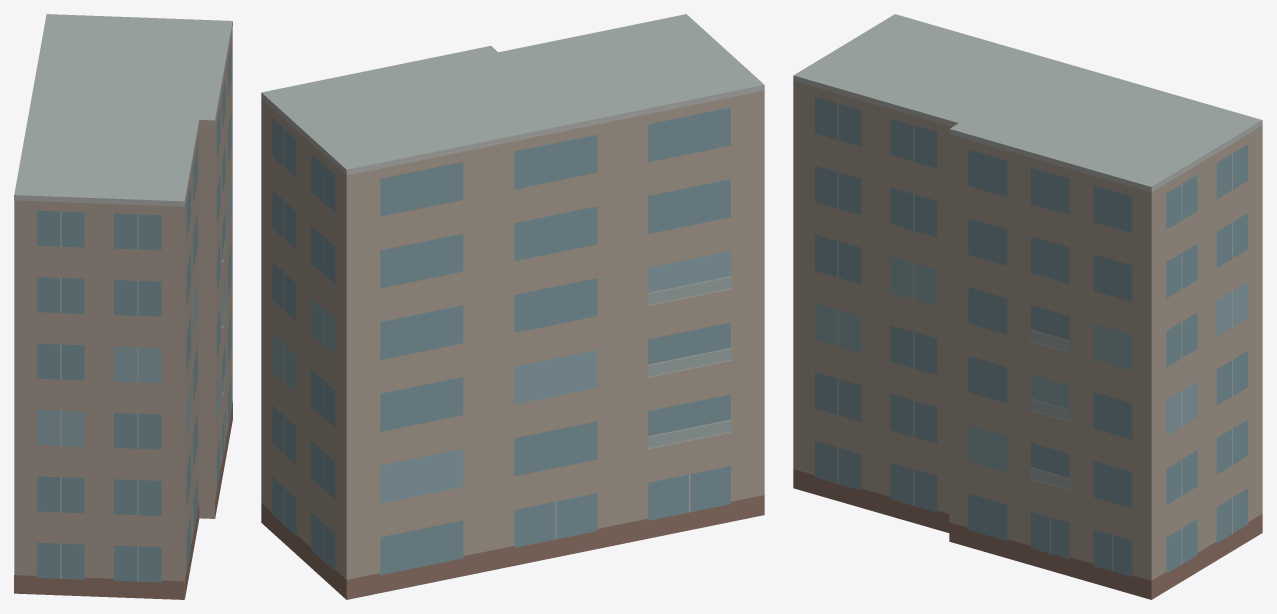
Rendered from survey-upis-32607851.glb.
3 views of the same model, side by side, from view 1: azimuth 30°, elevation 25°; view 2: azimuth 150°, elevation 25°; view 3: azimuth 270°, elevation 25° (orthographic). The views are drawn at different scales.
Parts seen in each view (by area): view 1: survey-upis-32607851.tmp; view 2: survey-upis-32607851.tmp; view 3: survey-upis-32607851.tmp.
Boxes of the visible parts, x1,y1,x2,y2 form: survey-upis-32607851.tmp: [14, 14, 232, 599]; survey-upis-32607851.tmp: [261, 14, 764, 599]; survey-upis-32607851.tmp: [793, 14, 1262, 599].
Size of the model in its own units: 16.46 by 18.3 by 18.86.
